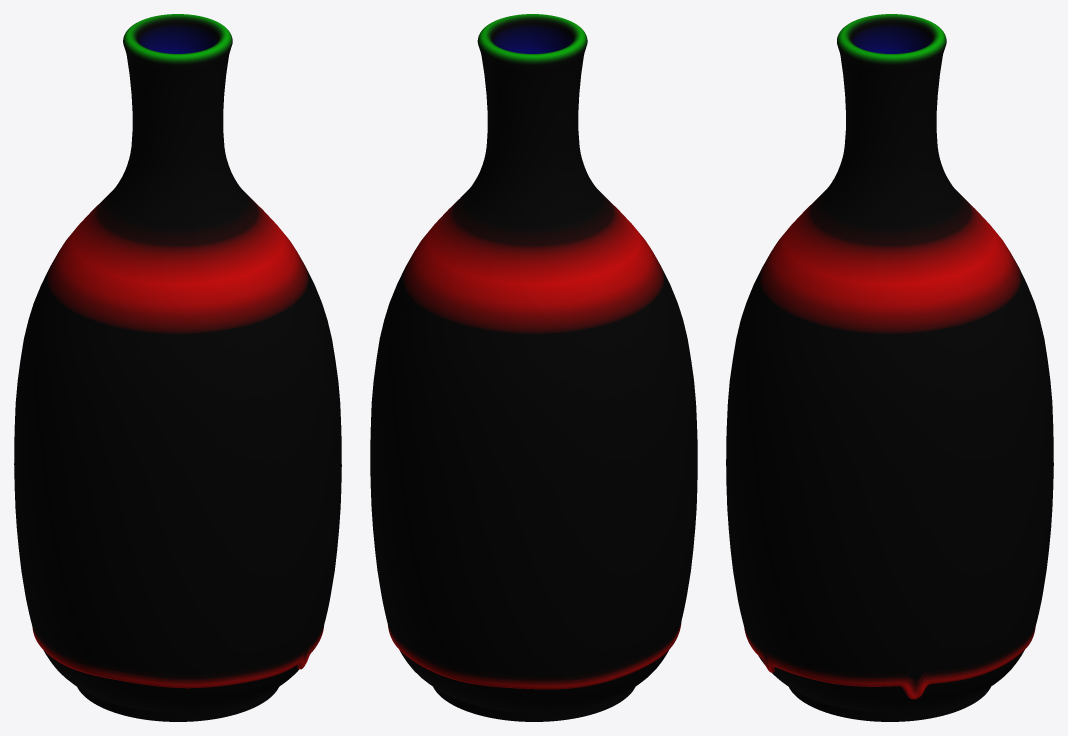
The model's file is vase_speckle.fbx.
3 renders of one model, left to right at view 1: azimuth 30°, elevation 25°; view 2: azimuth 150°, elevation 25°; view 3: azimuth 270°, elevation 25°, orthographic.
Visible parts, largest first — view 1: vase_speckle; view 2: vase_speckle; view 3: vase_speckle.
Part boxes in pixels (x1,y1,x2,y2): vase_speckle: (14, 14, 341, 721); vase_speckle: (370, 14, 697, 721); vase_speckle: (726, 14, 1053, 721).
Bounding box in the file's own units: 0.1108 × 0.1108 × 0.2404.
